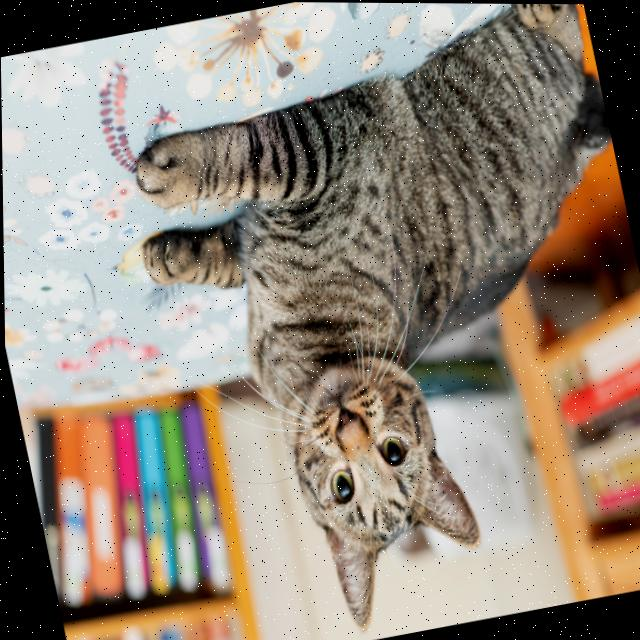American Bobtail: (94, 1, 640, 640)
